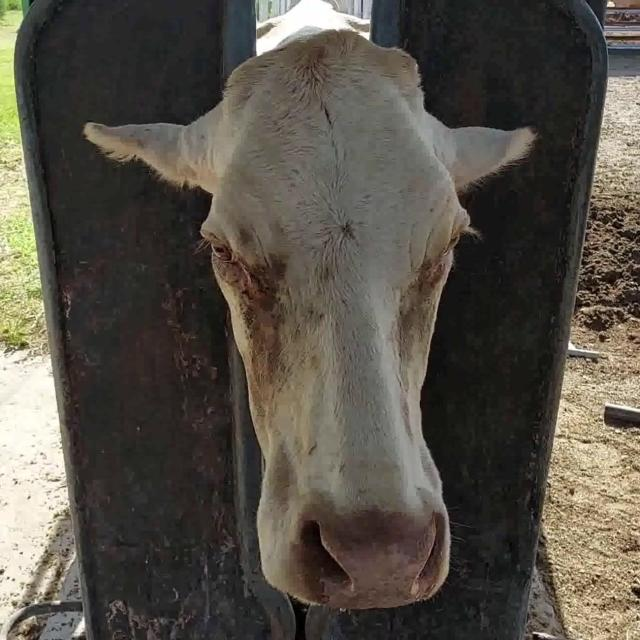cowFace: (201, 31, 471, 605)
